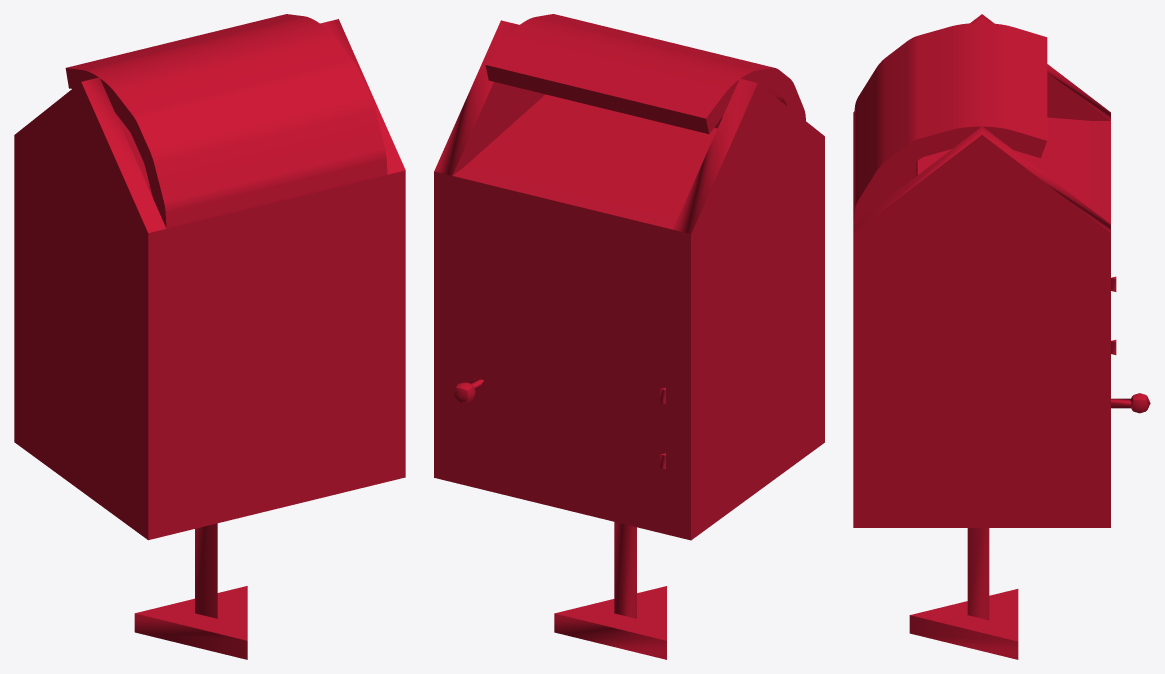
File: postbox.glb
The picture shows the model from 3 angles, left to right: view 1: azimuth 30°, elevation 25°; view 2: azimuth 150°, elevation 25°; view 3: azimuth 270°, elevation 25°; orthographic projection. The views are drawn at different scales.
Parts seen in each view (by area): view 1: Cube (×2), Spline 2D (×3), Cylinder (×4); view 2: Cube (×4), Spline 2D (×3), Cylinder (×4); view 3: Spline 2D (×3), Cylinder (×4), Cube (×3).
Boxes of the visible parts, x1,y1,x2,y2 form: Cube (×2): (14, 113, 405, 540); Spline 2D (×3): (14, 14, 387, 532); Cylinder (×4): (14, 19, 405, 659); Cube (×4): (434, 94, 824, 507); Spline 2D (×3): (434, 14, 814, 540); Cylinder (×4): (434, 20, 824, 659); Spline 2D (×3): (853, 23, 1110, 527); Cylinder (×4): (853, 14, 1110, 659); Cube (×3): (853, 117, 1110, 527).
Size of the model in its own units: 0.395 by 0.853 by 0.411.
